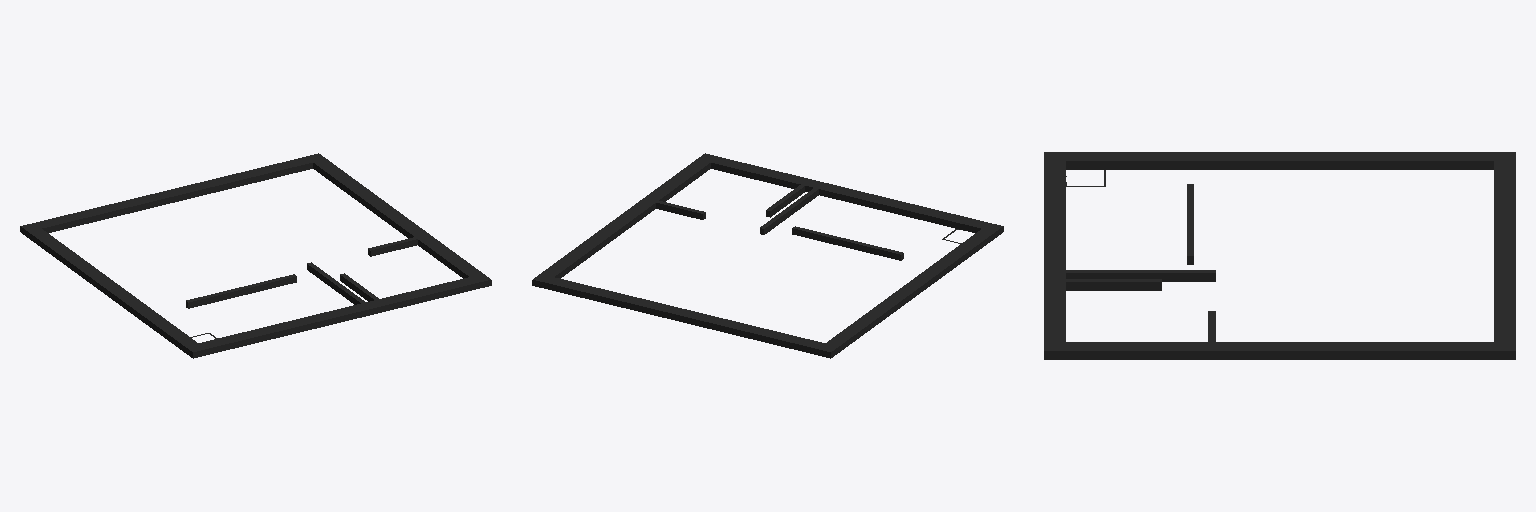
URDF robot description (Room9):
<robot name="Room9">
    <link name="_name">
        <visual> 
            <origin rpy="0.0 0.0 0.0" xyz="-0.5072434406404439 -0.4764045262080666 -0.009999999999999998" />
                <geometry>
                    <mesh filename="Room9/Room9.obj" scale="1 1 0.1" />
                </geometry>

            <material name="black">
                <color rgba="0.2 0.2 0.2 0.95" />
            </material>
        </visual>

       <collision concave="yes" name="collision_0">
            <origin rpy="0.0 0.0 0.0" xyz="-0.5072434406404439 -0.4764045262080666 -0.009999999999999998" />
            <geometry>
                <mesh filename="Room9/Room9_vhacd.obj" scale="1 1 0.1" />
            </geometry>
        </collision>

        <inertial> 
            <mass value="0" />
            <inertia ixx="0" ixy="0" ixz="0" iyy="0" iyz="0" izz="0" />
        </inertial> 
    </link>
</robot>

--- What the picture shows (computed from the rendered views, not written in the file) ---
Views: 3 orthographic renders of the robot side by side, from view 1: azimuth 30°, elevation 25°; view 2: azimuth 150°, elevation 25°; view 3: azimuth 270°, elevation 25°.
Robot: Room9 — 1 links, 0 joints (none); root link _name; default pose: every joint at zero.
Links seen in each view (by area): view 1: _name; view 2: _name; view 3: _name.
Link boxes in pixels (box(x1,y1,x2,y2)): _name: box(20, 153, 491, 358); _name: box(532, 153, 1003, 358); _name: box(1044, 152, 1515, 359).
Bounding box of the posed robot: 1 × 1 × 0.02 m (x, y, z).
1 mesh visuals loaded from 1 distinct referenced files (1 OBJ).